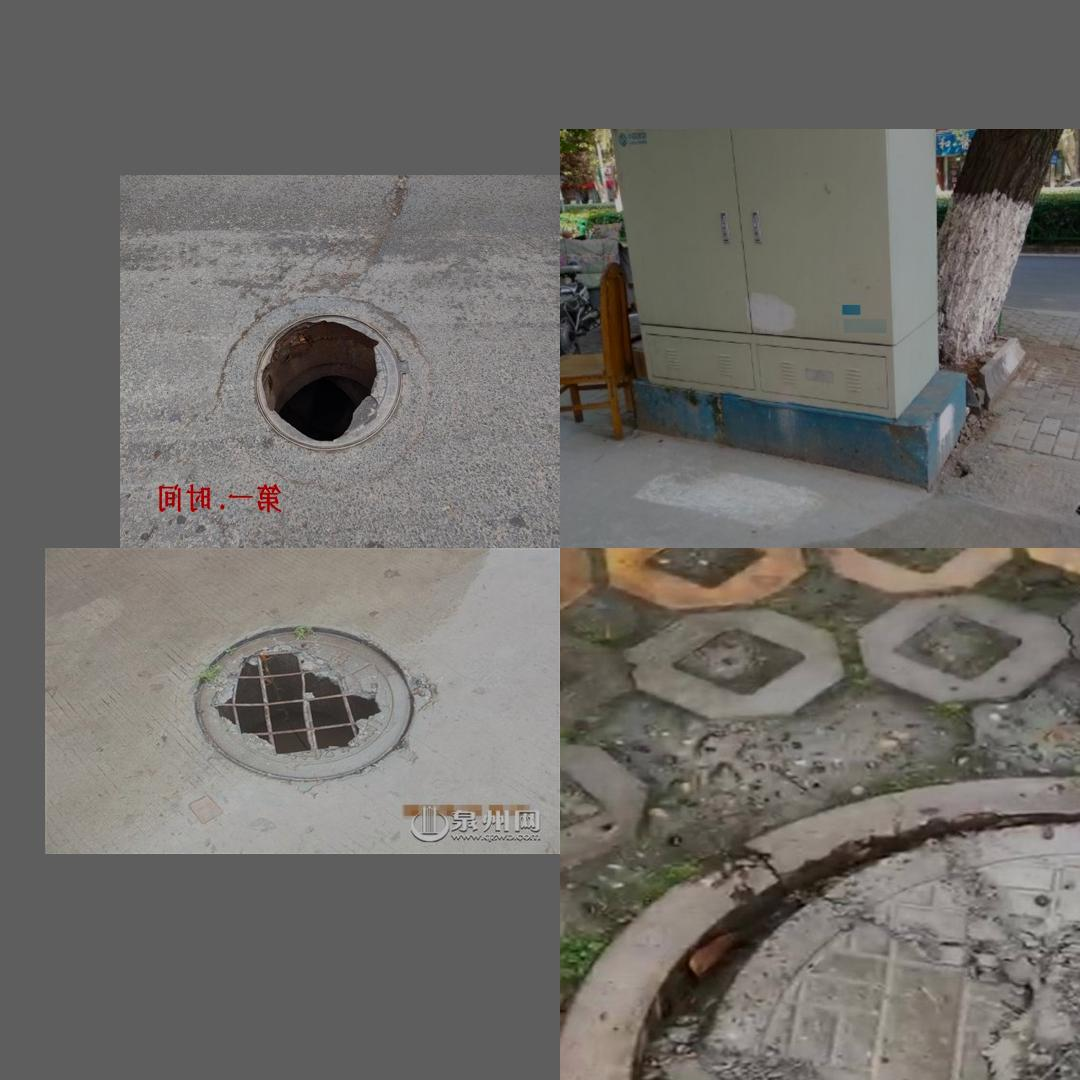broke: (628, 812, 1080, 1080), (211, 293, 430, 485), (181, 619, 431, 787), (946, 434, 1080, 526)
